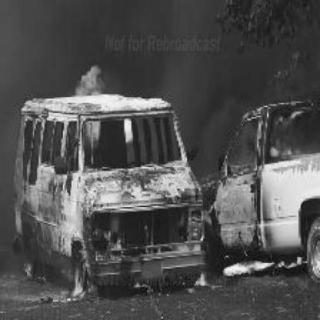Smoke: (18, 6, 260, 110)
